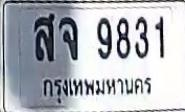1: (154, 16, 164, 58)
3: (134, 16, 149, 58)
8: (116, 17, 130, 58)
9: (96, 17, 112, 59)
A08: (58, 16, 78, 60)
A40: (34, 13, 54, 60)
BKK: (37, 73, 154, 99)
